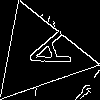A: (14, 30, 72, 77)
